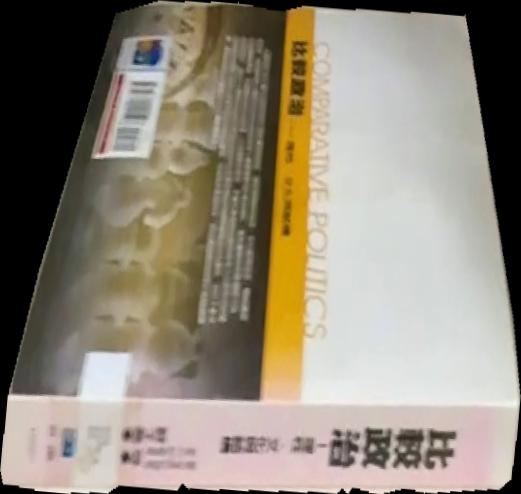flat: (1, 1, 521, 494)
